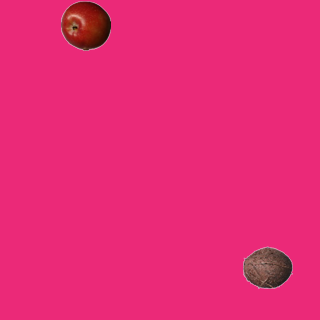Apple Braeburn: (60, 0, 110, 50)
Cocos: (242, 242, 292, 292)
